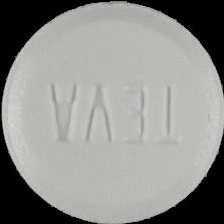0615-7634: (0, 0, 224, 224)
